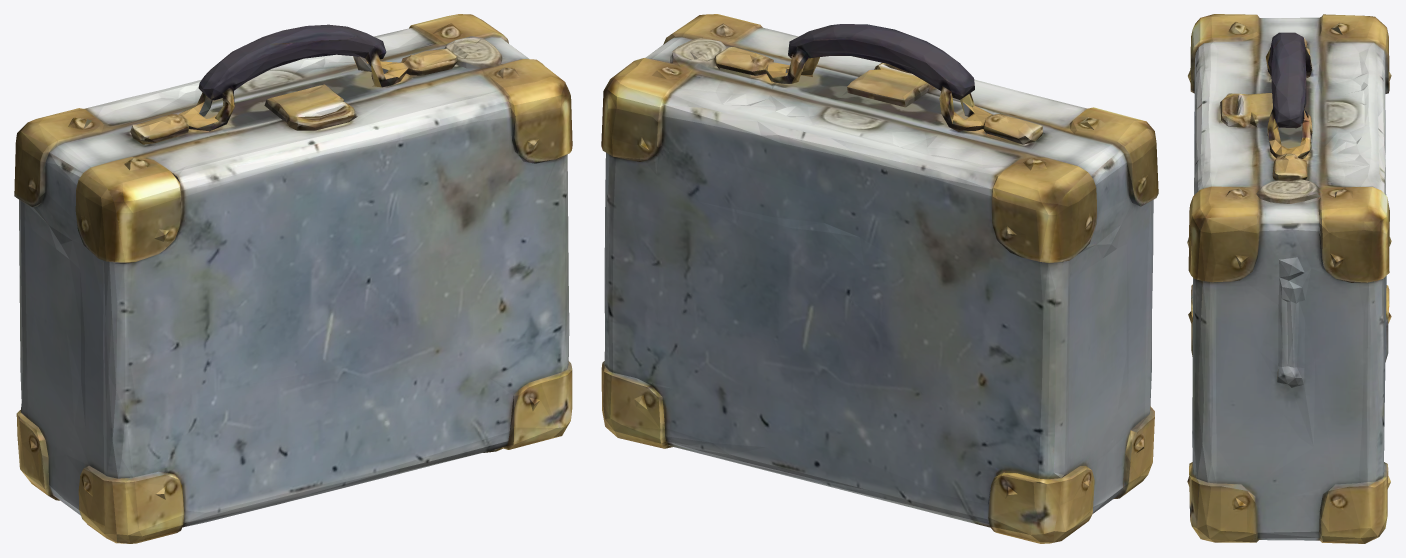
Rendered from case.glb.
3 renders of one model, left to right at view 1: azimuth 30°, elevation 25°; view 2: azimuth 150°, elevation 25°; view 3: azimuth 270°, elevation 25°, orthographic. The views are drawn at different scales.
Parts seen in each view (by area): view 1: case; view 2: case; view 3: case.
Boxes of the visible parts, x1=… form: case: x1=14, y1=14, x2=572, y2=543; case: x1=601, y1=14, x2=1158, y2=543; case: x1=1187, y1=14, x2=1391, y2=543.
Bounding box in the file's own units: 0.5 × 0.4377 × 0.2018.
Materials: 1 (1 with a texture image).
